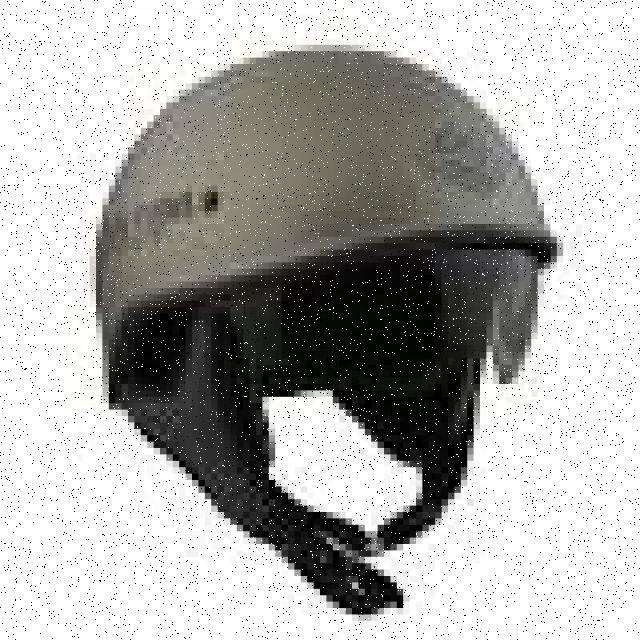Helmet: (98, 54, 526, 433)
